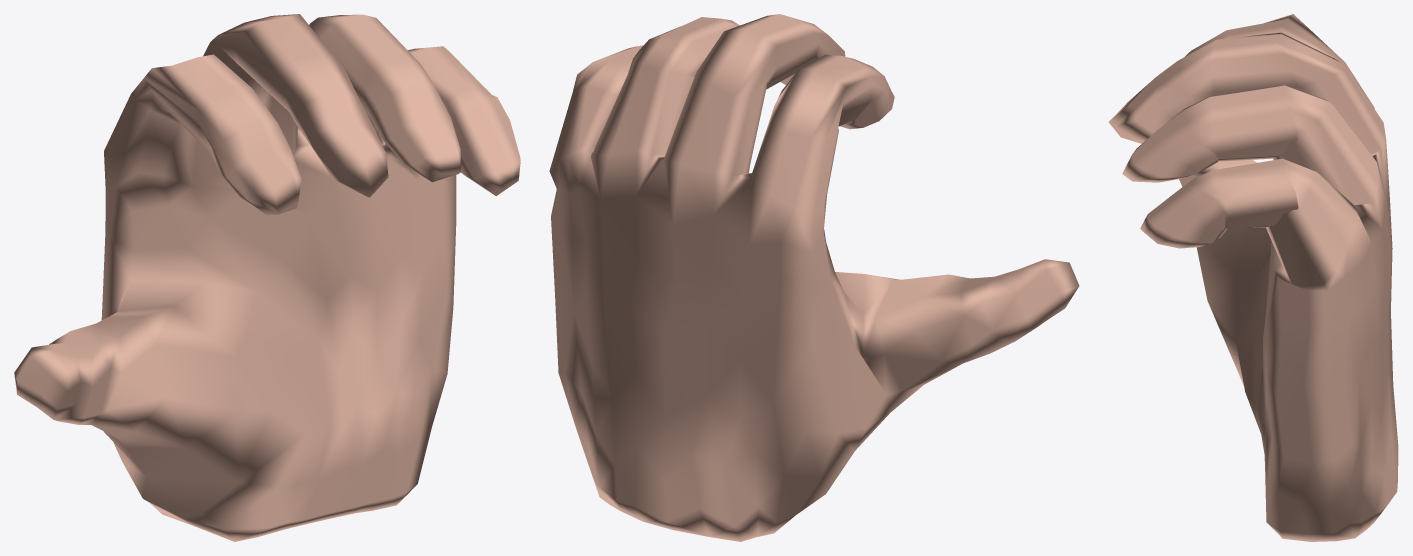
The model's file is MAO_C_COM_POLEGAR_PARA_O_LADO.obj.
3 renders of one model, left to right at view 1: azimuth 30°, elevation 25°; view 2: azimuth 150°, elevation 25°; view 3: azimuth 270°, elevation 25°, orthographic. The views are drawn at different scales.
Visible parts, largest first — view 1: mao_dir polySurface1; view 2: mao_dir polySurface1; view 3: mao_dir polySurface1.
Part boxes in pixels (<box>): mao_dir polySurface1: <box>14,14,520,541</box>; mao_dir polySurface1: <box>549,14,1079,541</box>; mao_dir polySurface1: <box>1108,14,1398,541</box>.
Size of the model in its own units: 182 by 179 by 105.
